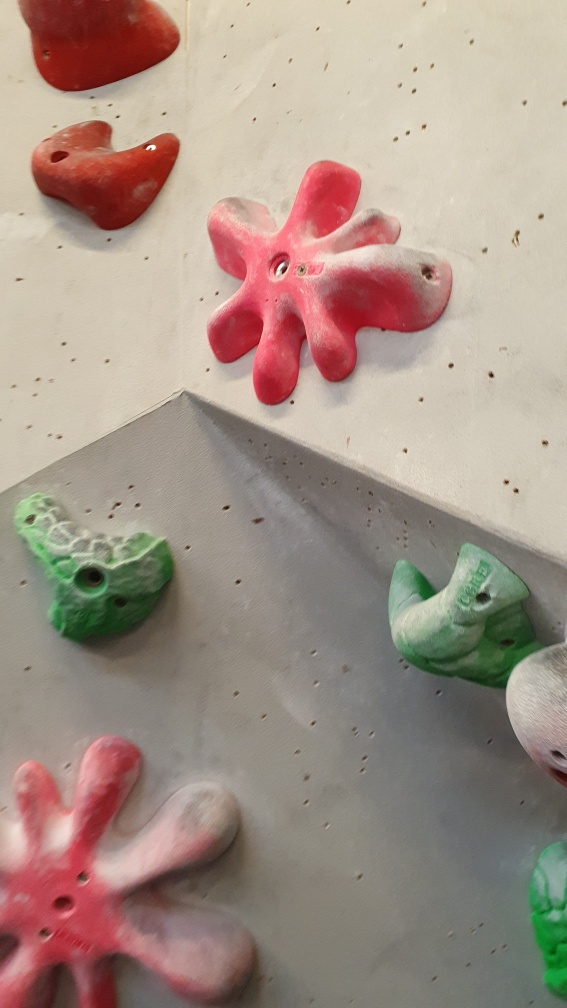Jug: (384, 539, 553, 698)
Octopus Pinch: (1, 720, 255, 1001), (196, 160, 461, 410)
Sloper: (504, 634, 567, 786)
